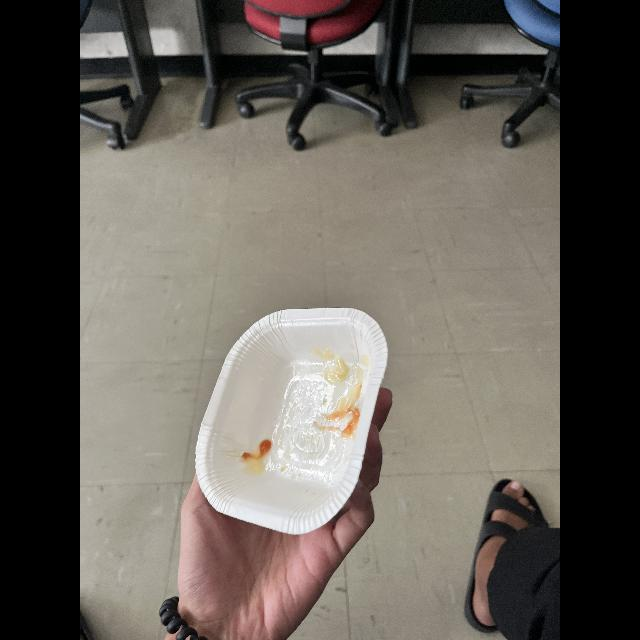cardboard_bowl: (188, 297, 398, 539)
